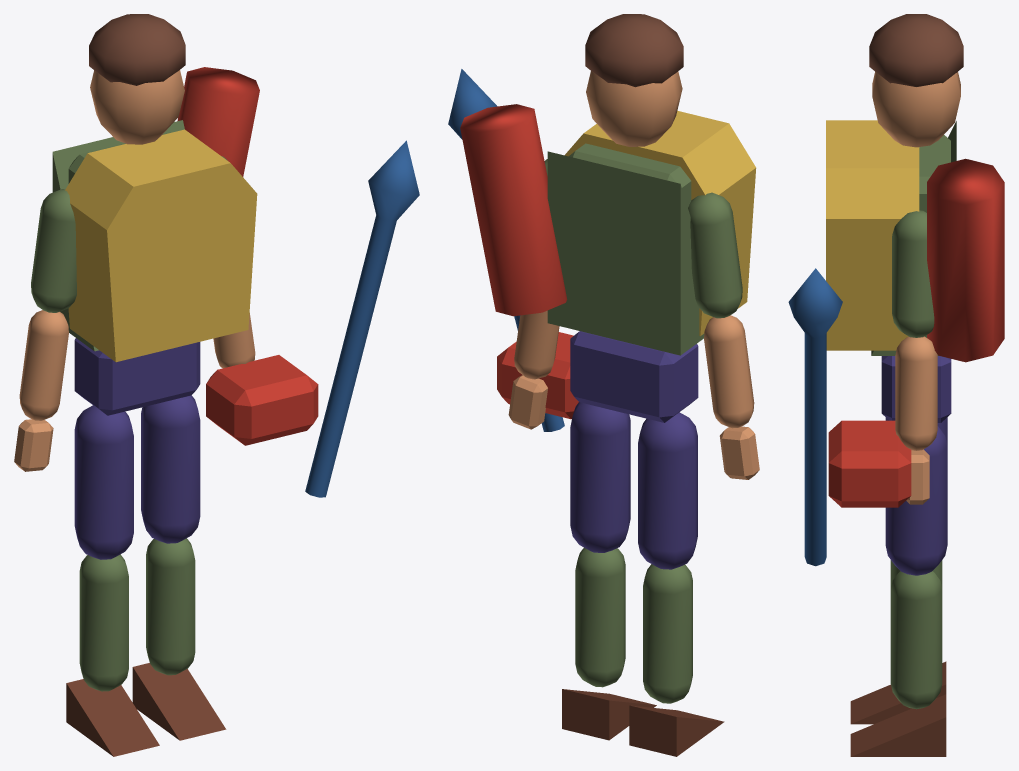
The model's file is adventurer.rustic.glb.
The picture shows the model from 3 angles, left to right: view 1: azimuth 30°, elevation 25°; view 2: azimuth 150°, elevation 25°; view 3: azimuth 270°, elevation 25°; orthographic projection.
Parts seen in each view (by area): view 1: accessory.body, accessory.main-hand, thigh.left, thigh.right, accessory.waist, pelvis, shin.left, shin.right, accessory.back, hair, head, upper-arm.left (+6 smaller); view 2: tunic, accessory.back, pelvis, accessory.body, thigh.left, thigh.right, shin.right, shin.left, hair, upper-arm.left, head, forearm.left (+8 smaller); view 3: accessory.body, accessory.back, accessory.main-hand, accessory.waist, shin.right, hair, thigh.right, head, forearm.right, upper-arm.right, foot.right, pelvis (+4 smaller).
Part boxes in pixels (<box>): accessory.body: <box>65,129,257,362</box>; accessory.main-hand: <box>305,140,419,497</box>; thigh.left: <box>74,405,133,559</box>; thigh.right: <box>141,395,200,543</box>; accessory.waist: <box>206,355,318,445</box>; pelvis: <box>74,338,200,415</box>; shin.left: <box>79,554,128,691</box>; shin.right: <box>146,538,195,675</box>; accessory.back: <box>177,67,259,176</box>; hair: <box>89,14,185,85</box>; head: <box>90,70,184,144</box>; upper-arm.left: <box>31,189,76,312</box>; tunic: <box>547,151,704,355</box>; accessory.back: <box>460,104,567,316</box>; pelvis: <box>570,331,698,422</box>; accessory.body: <box>564,110,756,336</box>; thigh.left: <box>638,412,697,569</box>; thigh.right: <box>570,402,630,552</box>; shin.right: <box>575,547,625,687</box>; shin.left: <box>643,564,692,703</box>; hair: <box>585,14,683,87</box>; upper-arm.left: <box>688,192,742,318</box>; head: <box>586,71,682,146</box>; forearm.left: <box>704,315,754,428</box>; accessory.body: <box>826,120,919,350</box>; accessory.back: <box>927,158,1004,362</box>; accessory.main-hand: <box>788,268,842,566</box>; accessory.waist: <box>828,420,911,507</box>; shin.right: <box>890,571,942,709</box>; hair: <box>869,14,963,86</box>; thigh.right: <box>885,426,947,575</box>; head: <box>872,72,960,147</box>; forearm.right: <box>895,336,937,450</box>; upper-arm.right: <box>892,210,934,337</box>; foot.right: <box>850,694,946,756</box>; pelvis: <box>881,356,951,422</box>.
Size of the model in its own units: 1.59 by 3.03 by 0.8353.
